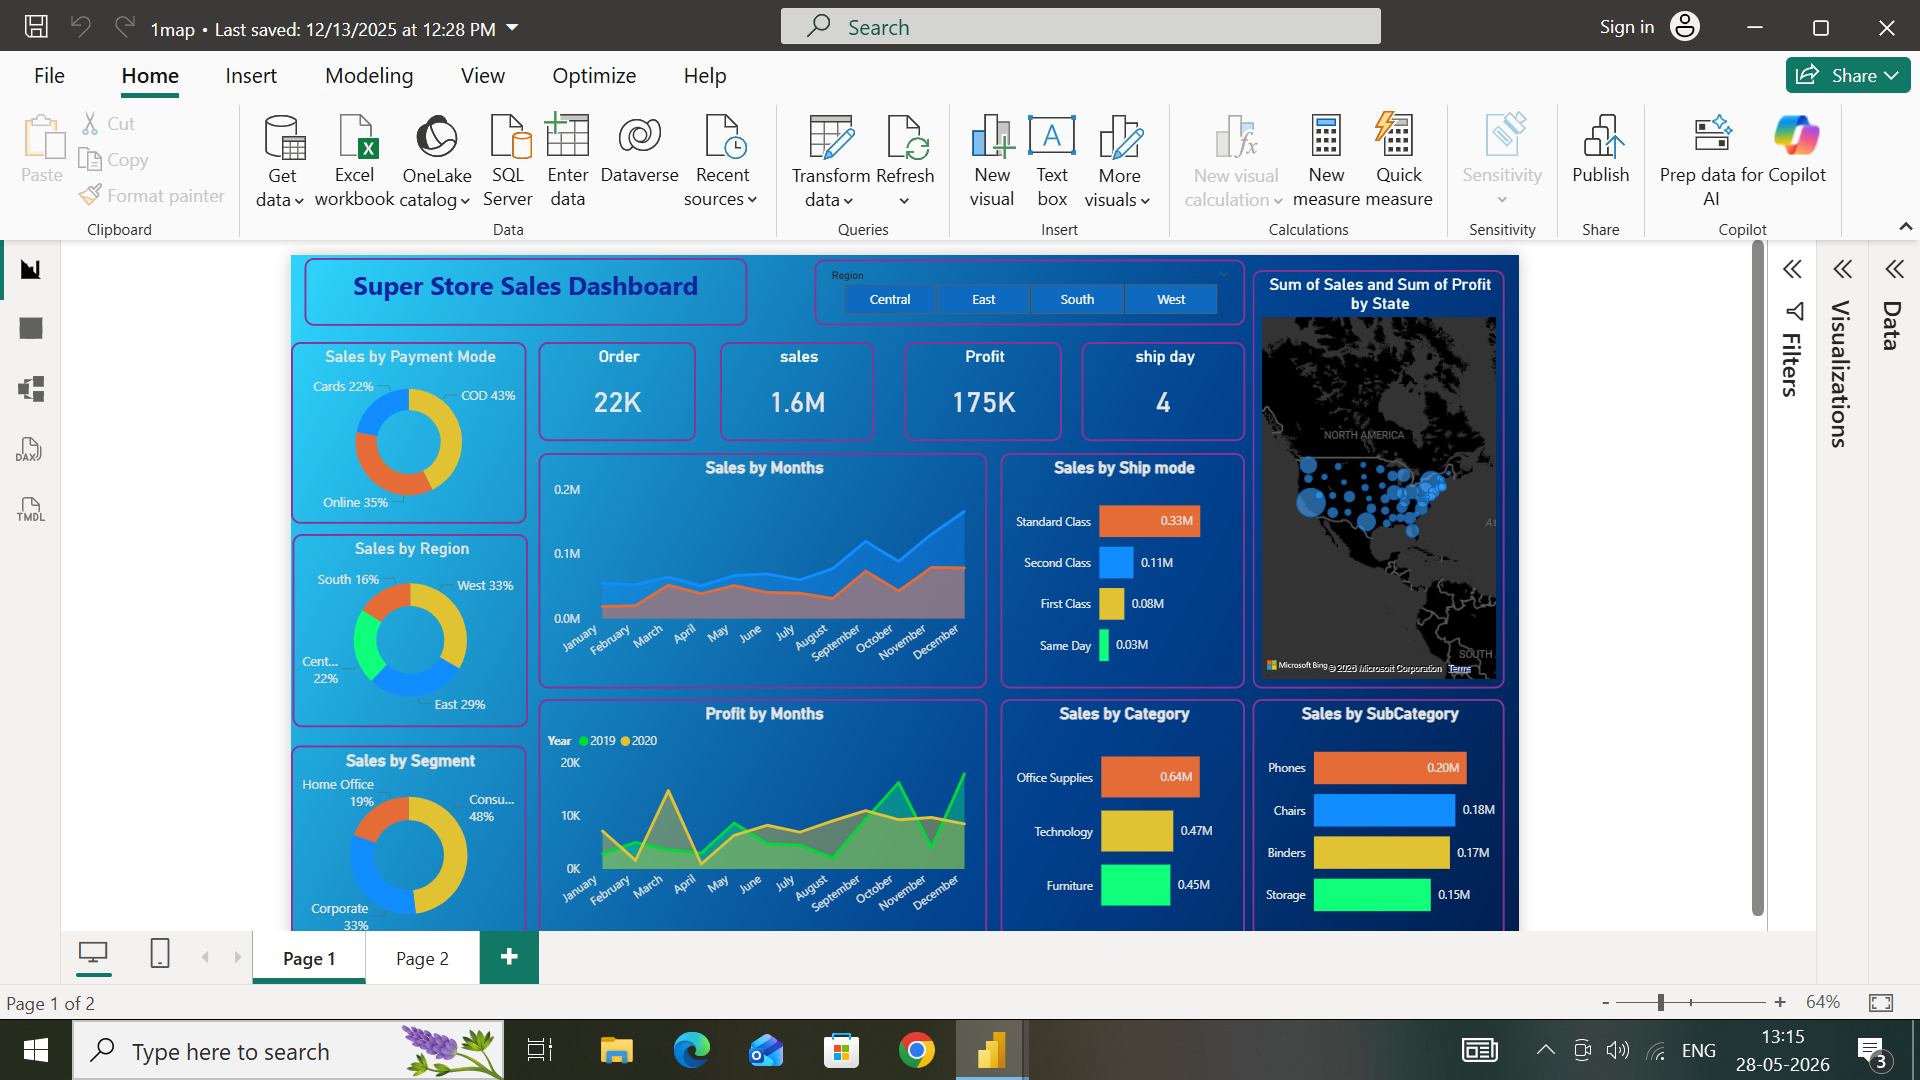

This screenshot's page, from the dashboard's own definition file:
{"tool":"powerbi","page":{"name":"Page 1","canvas":[1280,720],"ordinal":0},"visuals":[{"type":"clusteredBarChart","title":" Sales by SubCategory","fields":{"Y":["Sum(SuperStore_Sales_Dataset.Sales)"],"Category":["SuperStore_Sales_Dataset.Sub-Category"]},"box":[1001.9,462.6,262.6,250.1],"z":0},{"type":"clusteredBarChart","title":" Sales by Category","fields":{"Category":["SuperStore_Sales_Dataset.Category"],"Y":["Sum(SuperStore_Sales_Dataset.Sales)"]},"box":[739.3,462.6,254.8,250.1],"z":1000},{"type":"clusteredBarChart","title":" Sales by Ship mode","fields":{"Y":["Sum(SuperStore_Sales_Dataset.Sales)"],"Category":["SuperStore_Sales_Dataset.Ship Mode"]},"box":[739.3,206.3,254.8,245.4],"z":2000},{"type":"areaChart","title":"Sales by Months","fields":{"Y":["Sum(SuperStore_Sales_Dataset.Sales)"],"Category":["SuperStore_Sales_Dataset.Order Date.Variation.Date Hierarchy.Month","SuperStore_Sales_Dataset.Order Date.Variation.Date Hierarchy.Day"],"Series":["SuperStore_Sales_Dataset.Order Date.Variation.Date Hierarchy.Year"]},"box":[257.9,206.3,467.3,245.4],"z":3000},{"type":"areaChart","title":"Profit by Months","fields":{"Y":["Sum(SuperStore_Sales_Dataset.Profit)"],"Category":["SuperStore_Sales_Dataset.Order Date.Variation.Date Hierarchy.Month","SuperStore_Sales_Dataset.Order Date.Variation.Date Hierarchy.Day"],"Series":["SuperStore_Sales_Dataset.Order Date.Variation.Date Hierarchy.Year"]},"box":[257.9,462.6,467.3,250.1],"z":4000},{"type":"donutChart","title":"Sales by Segment","fields":{"Category":["SuperStore_Sales_Dataset.Segment"],"Y":["Sum(SuperStore_Sales_Dataset.Sales)"]},"box":[0,511.1,245.4,209.4],"z":5000},{"type":"donutChart","title":" Sales by Payment Mode","fields":{"Y":["Sum(SuperStore_Sales_Dataset.Sales)"],"Category":["SuperStore_Sales_Dataset.Payment Mode"]},"box":[0,90.7,245.4,189.1],"z":6000},{"type":"slicer","fields":{"Values":["SuperStore_Sales_Dataset.Region"]},"box":[545.5,4.7,448.6,68.8],"z":7000},{"type":"textbox","box":[14.1,3.1,461.1,70.3],"z":8000},{"type":"card","title":"sales","fields":{"Values":["Sum(SuperStore_Sales_Dataset.Sales)"]},"box":[447,90.7,161,103.2],"z":9000},{"type":"card","title":"Order","fields":{"Values":["Sum(SuperStore_Sales_Dataset.Quantity)"]},"box":[257.9,90.7,164.1,103.2],"z":10000},{"type":"card","title":"Profit","fields":{"Values":["Sum(SuperStore_Sales_Dataset.Profit)"]},"box":[639.3,90.7,164.1,103.2],"z":11000},{"type":"card","title":"ship day","fields":{"Values":["Avg(SuperStore_Sales_Dataset.Average delivery)"]},"box":[823.7,90.7,170.4,103.2],"z":12000},{"type":"donutChart","title":"Sales by Region","fields":{"Y":["Sum(SuperStore_Sales_Dataset.Sales)"],"Category":["SuperStore_Sales_Dataset.Region"]},"box":[1.6,290.7,245.4,201.6],"z":13000},{"type":"map","fields":{"Size":["Sum(SuperStore_Sales_Dataset.Sales)"],"Category":["SuperStore_Sales_Dataset.State"]},"box":[1001.9,15.6,262.6,436.1],"z":14000}]}

Visuals, with their boxes on the page's 1280x720 design canvas (x1, y1, x2, y2). These are canvas units, not pixel positions in the 1920x1080 screenshot, which may show the page scaled, cropped or inside an application window:
" Sales by SubCategory" clusteredBarChart: [x1=1002, y1=463, x2=1264, y2=713]
" Sales by Category" clusteredBarChart: [x1=739, y1=463, x2=994, y2=713]
" Sales by Ship mode" clusteredBarChart: [x1=739, y1=206, x2=994, y2=452]
"Sales by Months" areaChart: [x1=258, y1=206, x2=725, y2=452]
"Profit by Months" areaChart: [x1=258, y1=463, x2=725, y2=713]
"Sales by Segment" donutChart: [x1=0, y1=511, x2=245, y2=720]
" Sales by Payment Mode" donutChart: [x1=0, y1=91, x2=245, y2=280]
slicer - SuperStore_Sales_Dataset.Region: [x1=546, y1=5, x2=994, y2=74]
textbox: [x1=14, y1=3, x2=475, y2=73]
"sales" card: [x1=447, y1=91, x2=608, y2=194]
"Order" card: [x1=258, y1=91, x2=422, y2=194]
"Profit" card: [x1=639, y1=91, x2=803, y2=194]
"ship day" card: [x1=824, y1=91, x2=994, y2=194]
"Sales by Region" donutChart: [x1=2, y1=291, x2=247, y2=492]
map - Sum(SuperStore_Sales_Dataset.Sales) x SuperStore_Sales_Dataset.State: [x1=1002, y1=16, x2=1264, y2=452]
